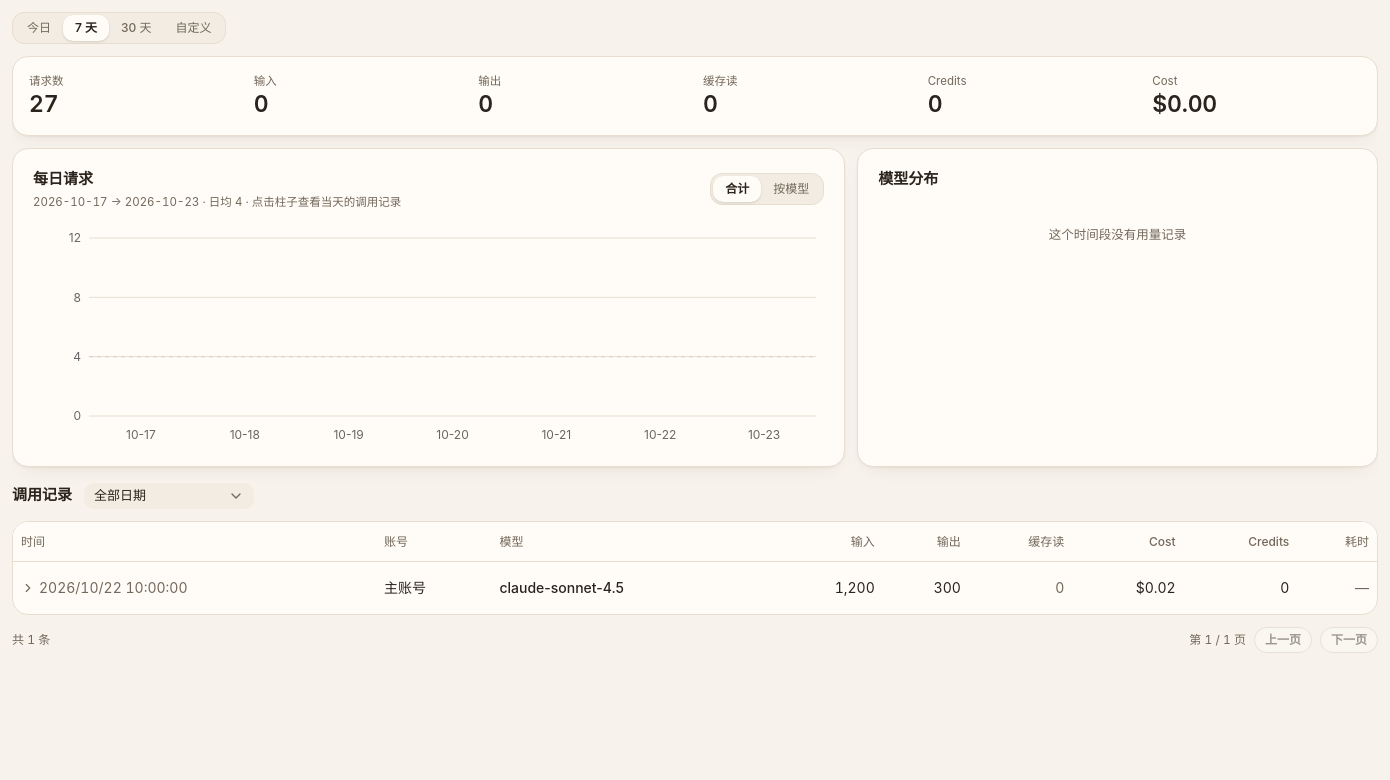
Test case: UsagePage › expands a record to show the fields the table leaves out
The width and height of the screenshot is (1390, 780).
Click the button "2026/10/22 10:00:00" at (104, 588), box x1=21 y1=578 x2=188 y2=598
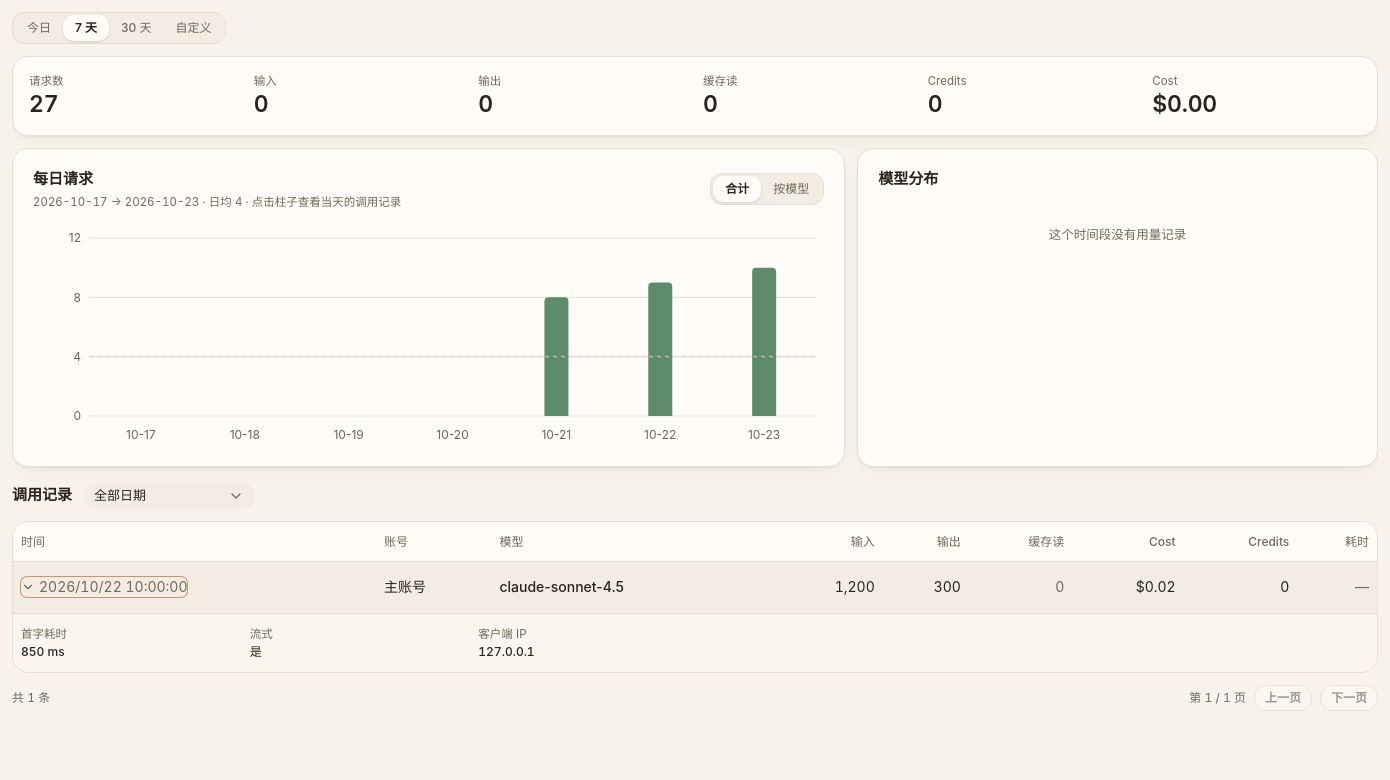
Expected: the button "2026/10/22 10:00:00" is expanded, x1=21 y1=577 x2=188 y2=597
Expected: the text "850 ms" is shown, x1=21 y1=644 x2=65 y2=658
Expected: the text "127.0.0.1" is shown, x1=478 y1=644 x2=535 y2=658
